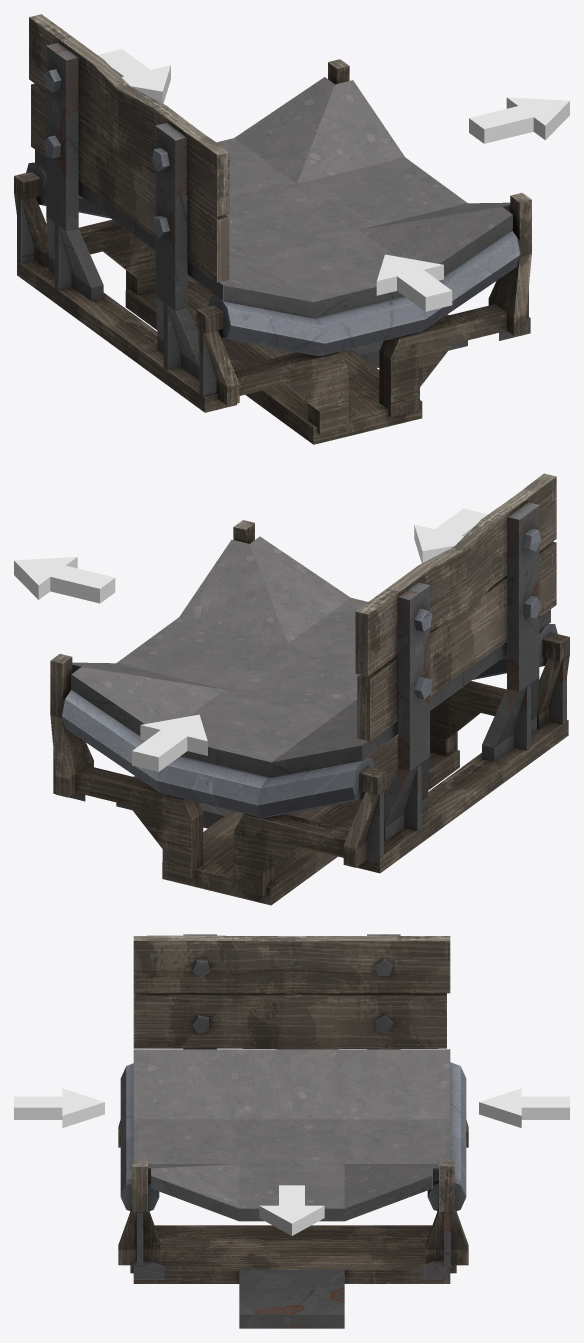
The model's file is Wall_TCombiner.glb.
The picture shows the model from 3 angles, top to bottom: view 1: azimuth 30°, elevation 25°; view 2: azimuth 150°, elevation 25°; view 3: azimuth 270°, elevation 25°; orthographic projection. The views are drawn at different scales.
Parts seen in each view (by area): view 1: Wall_TCombiner, ghostarrow (1), ghostarrow (2), ghostarrow (3); view 2: Wall_TCombiner, ghostarrow (1), ghostarrow (3), ghostarrow (2); view 3: Wall_TCombiner, ghostarrow (2), ghostarrow (3), ghostarrow (1).
Part boxes in pixels (x1,y1,x2,y2): Wall_TCombiner: [14, 14, 531, 444]; ghostarrow (1): [469, 97, 569, 143]; ghostarrow (2): [376, 254, 452, 311]; ghostarrow (3): [98, 49, 170, 103]; Wall_TCombiner: [50, 473, 569, 905]; ghostarrow (1): [14, 557, 115, 603]; ghostarrow (3): [132, 714, 207, 771]; ghostarrow (2): [414, 508, 487, 563]; Wall_TCombiner: [118, 934, 468, 1328]; ghostarrow (2): [14, 1088, 104, 1127]; ghostarrow (3): [479, 1088, 569, 1127]; ghostarrow (1): [259, 1185, 324, 1235].
Bounding box in the file's own units: 1.43 × 0.9199 × 1.76.
Materials: 4 (2 with a texture image).
